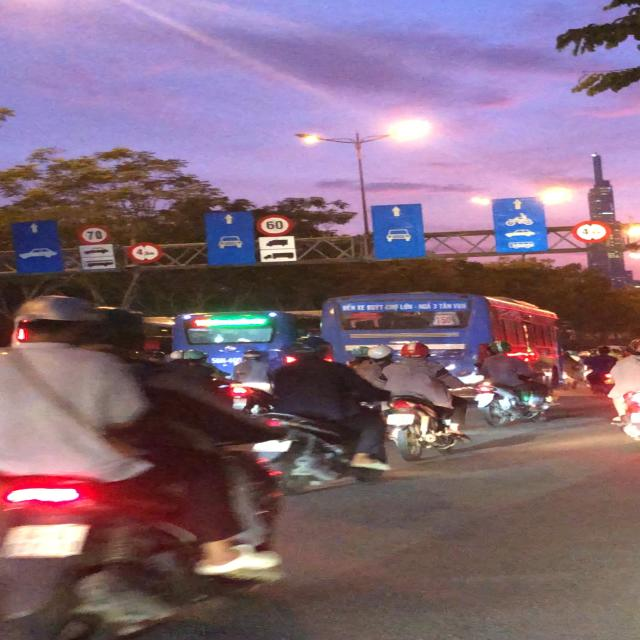Bien bao han che chieu cao: (569, 219, 610, 244), (126, 241, 163, 264)
Bien bao toc do toi da cho phep: (254, 213, 298, 234), (73, 223, 110, 246)
